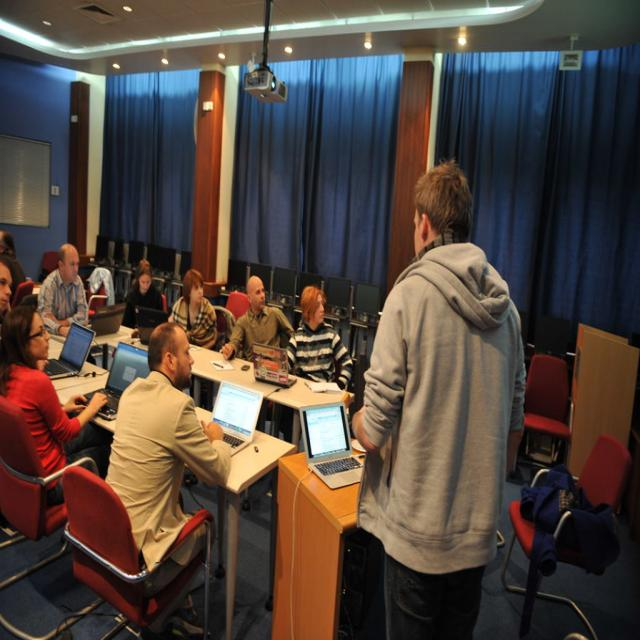chair: (60, 464, 214, 636), (0, 401, 72, 543), (520, 354, 572, 469)
desk: (58, 369, 296, 639)
laptop: (301, 403, 365, 490), (89, 340, 150, 423), (210, 380, 264, 456), (41, 322, 96, 381), (252, 344, 296, 388), (136, 305, 170, 345)
person: (352, 158, 527, 630), (106, 322, 232, 558), (0, 306, 111, 479), (286, 284, 354, 393), (223, 272, 295, 362), (38, 242, 90, 336), (170, 268, 219, 350), (120, 258, 166, 328)
